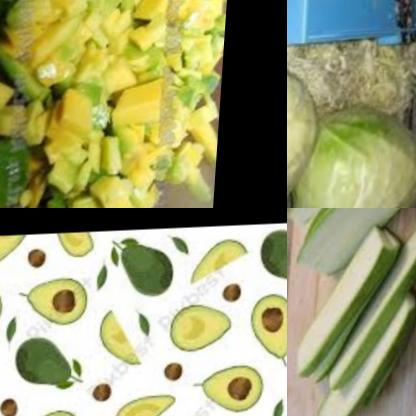avocado: (0, 0, 239, 208), (164, 293, 244, 370), (103, 238, 186, 310), (14, 330, 79, 399), (87, 315, 158, 377), (195, 358, 268, 416), (192, 229, 249, 297), (22, 275, 93, 325), (246, 289, 287, 366), (104, 387, 182, 416), (54, 233, 104, 267), (259, 240, 287, 295), (0, 235, 30, 262)
cabbage: (293, 103, 416, 208), (287, 47, 406, 106), (287, 64, 334, 208)
vegetable marrow: (287, 230, 416, 416), (296, 208, 416, 276), (291, 208, 416, 250)
